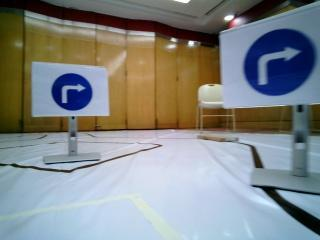right: (223, 33, 319, 97), (36, 66, 103, 113)
